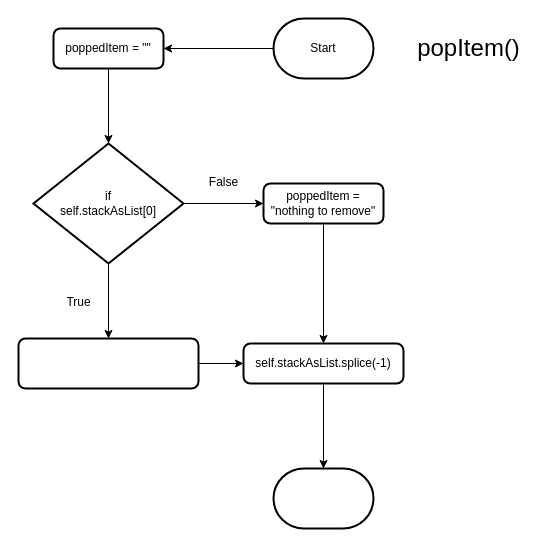
This 550x546 diagram has some shape labels left out. The shapes that lost their labels are listed below. From the top down, each one's box as (x1, y1, x2, y2) in pixels, then its label:
(17, 337, 199, 389): poppedItem = self.stackAsList[ self.stackAsList.length - 1]
(272, 467, 374, 529): Stop
